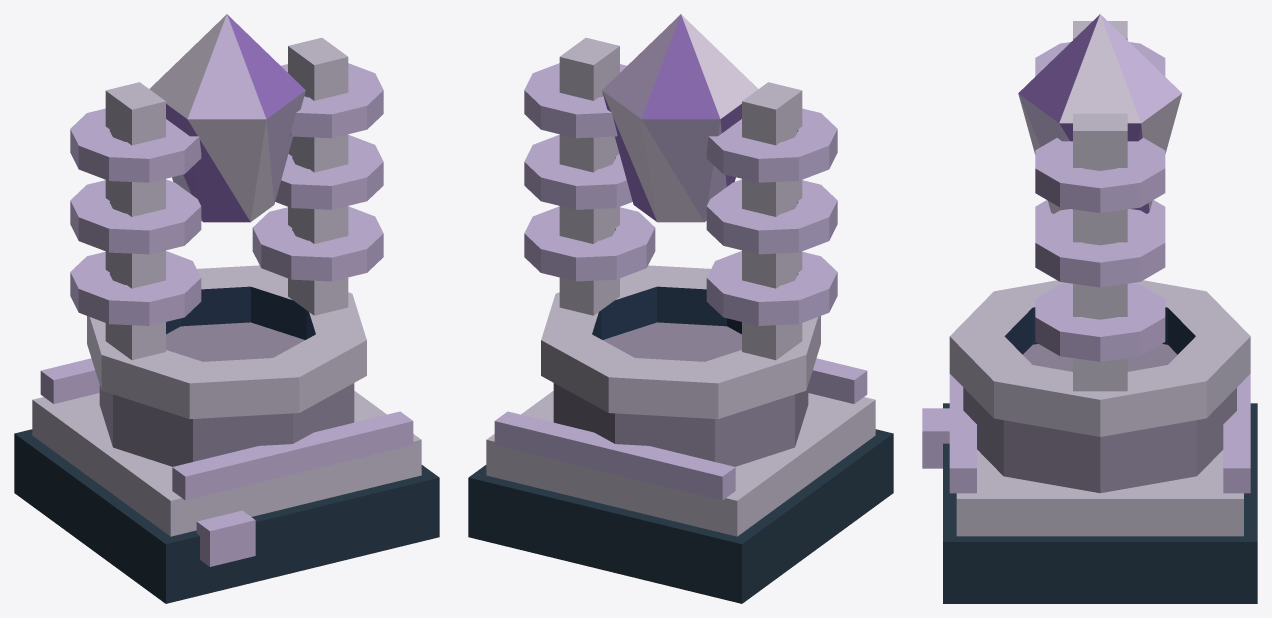
The model's file is module-lightning.glb.
3 renders of one model, left to right at view 1: azimuth 30°, elevation 25°; view 2: azimuth 150°, elevation 25°; view 3: azimuth 270°, elevation 25°, orthographic. The views are drawn at different scales.
Visible parts, largest first — view 1: 雷鸣反应器; view 2: 雷鸣反应器; view 3: 雷鸣反应器.
Part boxes in pixels (x1,y1,x2,y2): 雷鸣反应器: [14, 14, 439, 603]; 雷鸣反应器: [468, 14, 893, 603]; 雷鸣反应器: [922, 14, 1257, 603].
Bounding box in the file's own units: 0.26 × 0.42 × 0.245.
